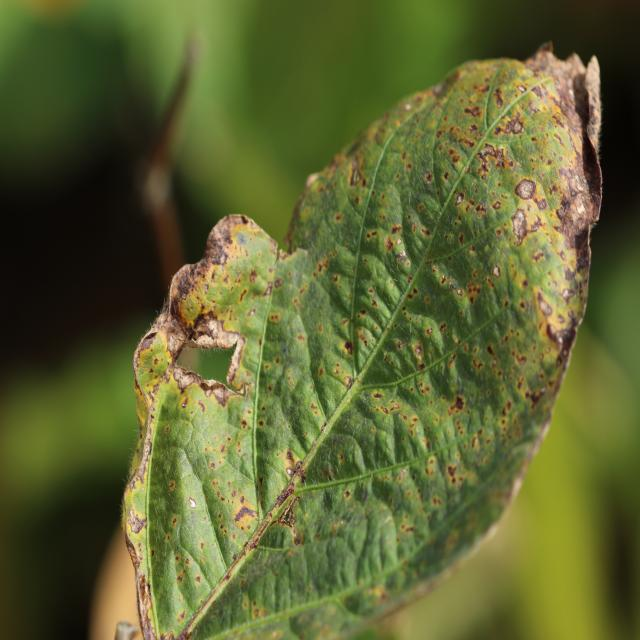Bacterial_Blight: (168, 260, 208, 329), (203, 429, 242, 482), (549, 317, 581, 374), (198, 378, 242, 408), (571, 219, 592, 270), (232, 226, 265, 258), (270, 480, 297, 514), (509, 171, 535, 206), (353, 326, 377, 360), (207, 238, 231, 267), (511, 209, 530, 243), (284, 448, 304, 480), (126, 506, 146, 534), (232, 504, 257, 525), (348, 153, 363, 186), (501, 117, 525, 136), (138, 332, 158, 354), (569, 174, 586, 197), (556, 196, 572, 220), (529, 386, 547, 406), (538, 294, 553, 317), (395, 249, 410, 269), (466, 282, 481, 302), (463, 105, 482, 119), (293, 523, 304, 546), (451, 395, 465, 412), (426, 457, 437, 474), (562, 287, 575, 301), (447, 465, 458, 481), (384, 237, 395, 252), (576, 200, 586, 216), (360, 487, 369, 503), (144, 578, 152, 596), (262, 282, 273, 295), (345, 375, 354, 390), (239, 288, 248, 303), (424, 170, 433, 184), (391, 224, 402, 235), (269, 312, 280, 323), (161, 631, 174, 640), (249, 270, 257, 284), (366, 230, 377, 240), (455, 193, 464, 205), (344, 341, 353, 353), (389, 403, 401, 412), (492, 265, 500, 278), (188, 496, 196, 509), (491, 200, 501, 210), (240, 214, 250, 224), (251, 539, 259, 551), (177, 611, 185, 623), (247, 307, 256, 317), (396, 340, 404, 351), (198, 401, 205, 413), (171, 516, 178, 528), (425, 327, 433, 337), (373, 392, 383, 400), (439, 322, 446, 333), (320, 420, 327, 431), (404, 102, 412, 111), (415, 346, 422, 356), (174, 553, 181, 563), (177, 574, 184, 584), (335, 212, 342, 222), (483, 244, 490, 254), (418, 363, 426, 371), (258, 419, 265, 428), (169, 481, 175, 491), (241, 418, 247, 428), (332, 274, 338, 284), (318, 367, 324, 377), (456, 288, 463, 296), (181, 399, 187, 408), (195, 575, 201, 584), (164, 426, 170, 435), (199, 541, 205, 550), (225, 573, 231, 582), (210, 461, 216, 469)
Soybean: (122, 51, 601, 640)
